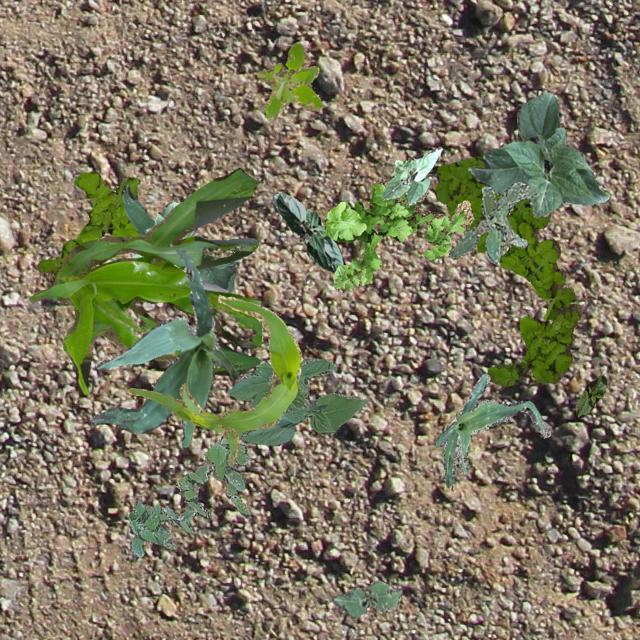crop: (28, 166, 260, 394), (126, 294, 300, 464), (90, 248, 238, 446), (466, 92, 608, 216), (434, 372, 550, 490), (226, 356, 368, 444), (120, 183, 238, 264), (272, 192, 344, 272), (130, 200, 194, 258), (381, 146, 442, 203), (332, 580, 401, 616), (196, 254, 234, 290), (574, 374, 606, 416)
weed: (434, 154, 580, 386), (323, 177, 472, 290), (35, 170, 138, 276), (448, 180, 536, 262), (174, 428, 250, 518), (255, 42, 322, 120), (127, 498, 195, 556)
